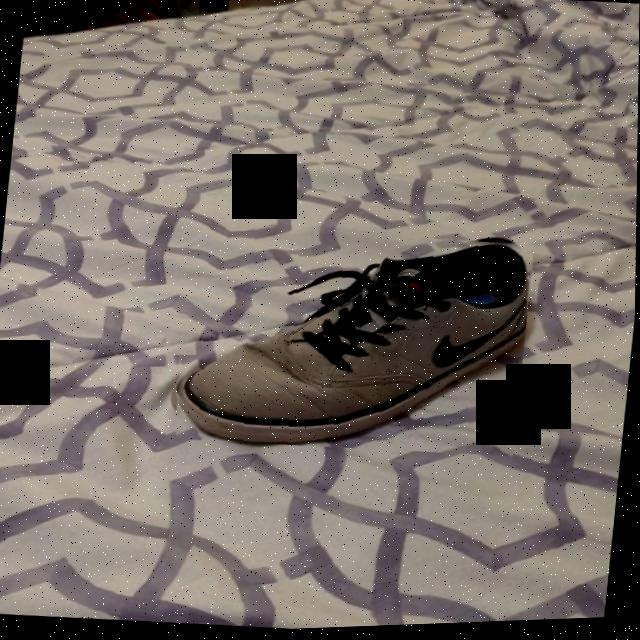shoe: (166, 210, 536, 470)
